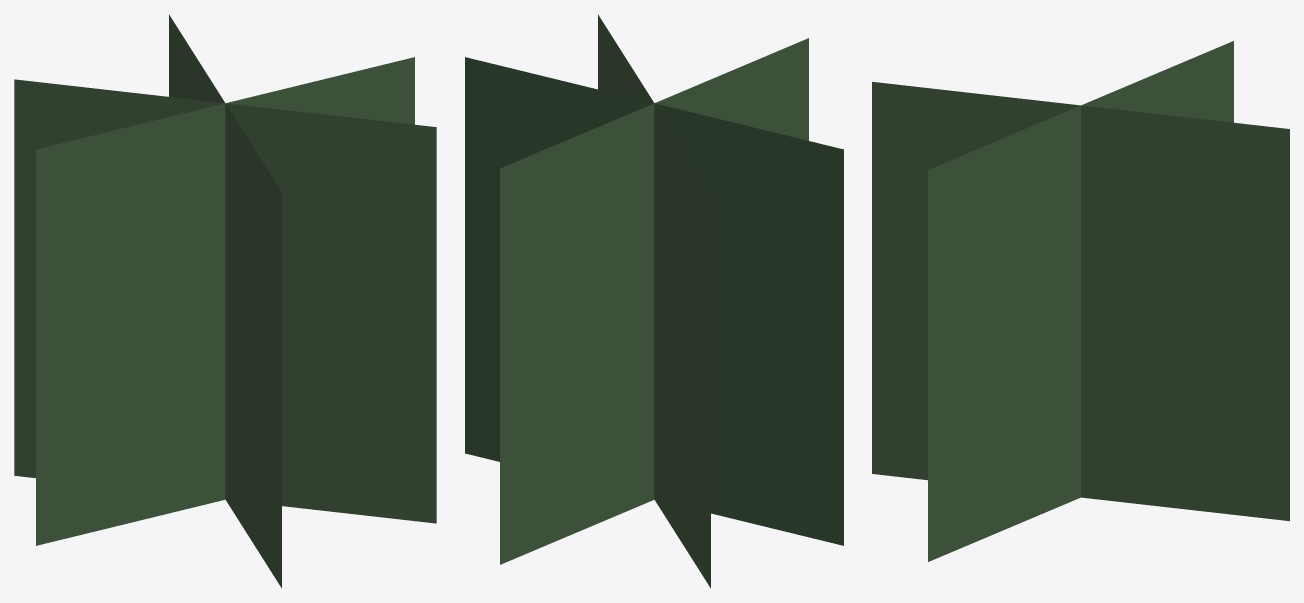
The model's file is Grass 1.fbx.
3 renders of one model, left to right at view 1: azimuth 30°, elevation 25°; view 2: azimuth 150°, elevation 25°; view 3: azimuth 270°, elevation 25°, orthographic.
Parts seen in each view (by area): view 1: pPlane4, pPlane6, pPlane5; view 2: pPlane4, pPlane5, pPlane6; view 3: pPlane5, pPlane6.
Boxes of the visible parts, left/top/right/bottom form: pPlane4: left=36, top=57, right=414, bottom=545; pPlane6: left=14, top=79, right=436, bottom=523; pPlane5: left=169, top=14, right=281, bottom=588; pPlane4: left=465, top=57, right=843, bottom=545; pPlane5: left=500, top=38, right=808, bottom=564; pPlane6: left=598, top=14, right=710, bottom=588; pPlane5: left=872, top=81, right=1289, bottom=521; pPlane6: left=928, top=41, right=1233, bottom=561.
Bounding box in the file's own units: 0.0164 × 0.0164 × 0.0158.
